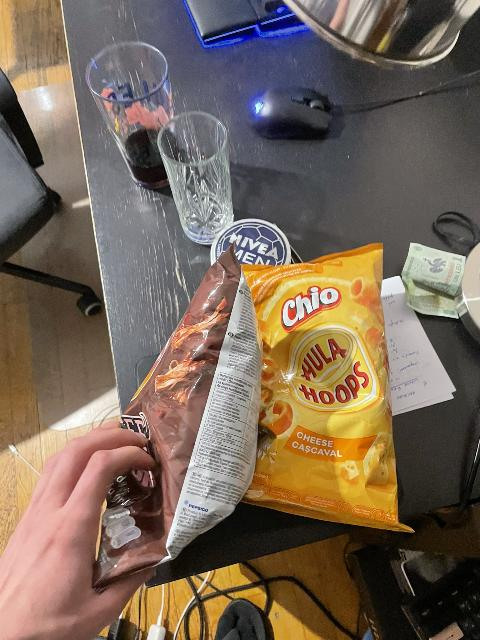Chio Hula Hoops Cheese 70g: (245, 241, 413, 530)
Lays Beef Grilled Ribs 125g: (96, 248, 262, 578)
